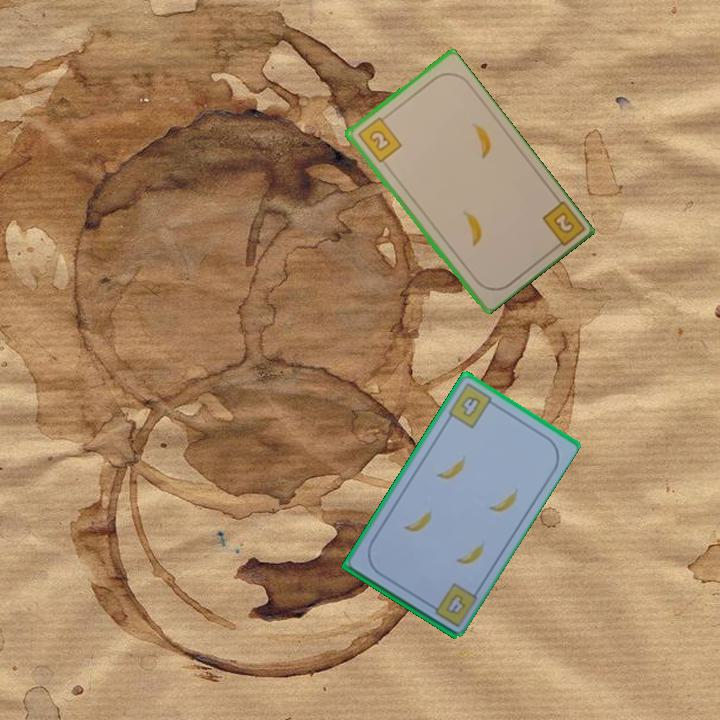2b: (354, 111, 404, 165), (538, 197, 585, 254)
4b: (444, 379, 499, 431), (442, 590, 468, 617)
